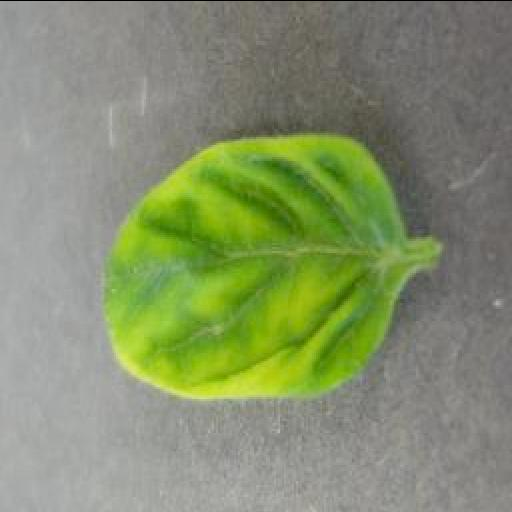disease_tomato: (106, 130, 404, 396)
